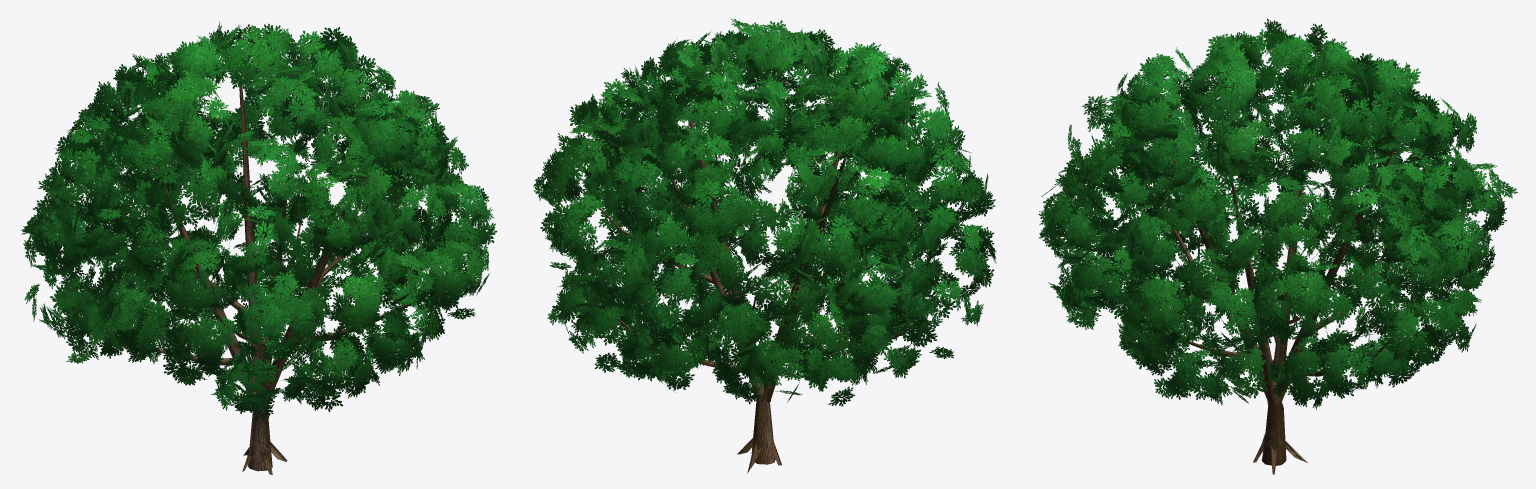
Rendered from mm7_deco_tree37.glb.
3 renders of one model, left to right at view 1: azimuth 30°, elevation 25°; view 2: azimuth 150°, elevation 25°; view 3: azimuth 270°, elevation 25°, orthographic.
Parts seen in each view (by area): view 1: Tree; view 2: Tree; view 3: Tree.
Part boxes in pixels (x1,y1,x2,y2): Tree: [21, 21, 497, 474]; Tree: [533, 18, 996, 473]; Tree: [1038, 18, 1517, 474].
Bounding box in the file's own units: 6.46 × 6.16 × 6.55.
2 materials, 2 textured.
